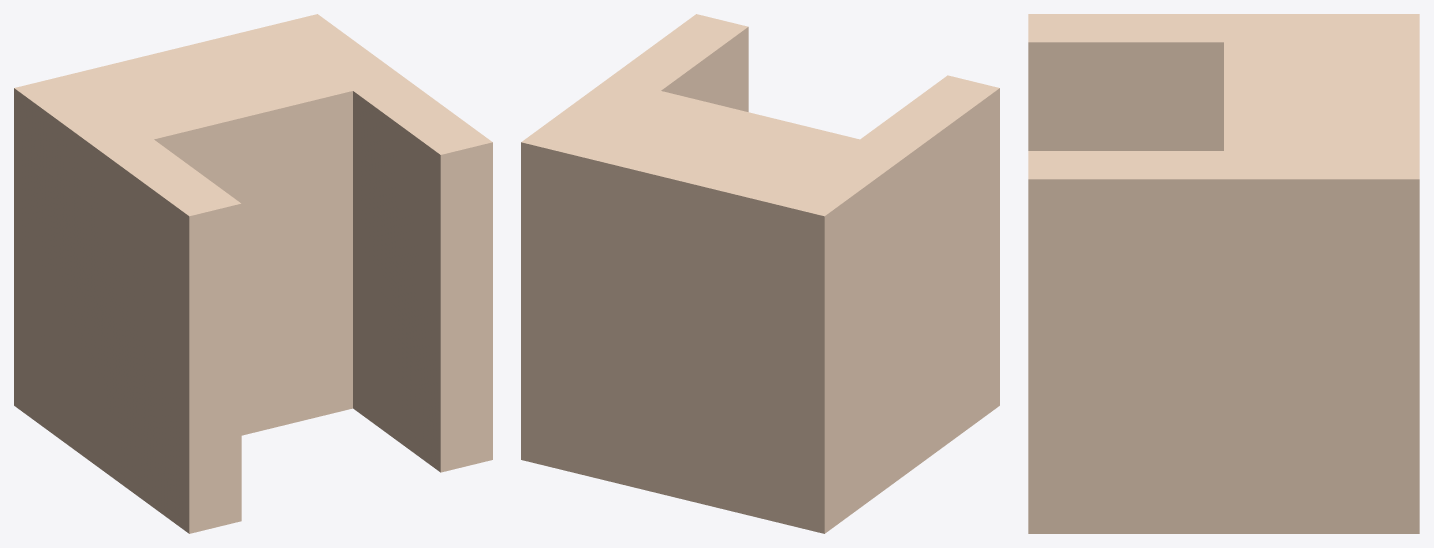
Rendered from Abstract_Castle_Block_1_Unit_Beige_Doorway_Bottom_01.fbx.
3 renders of one model, left to right at view 1: azimuth 30°, elevation 25°; view 2: azimuth 150°, elevation 25°; view 3: azimuth 270°, elevation 25°, orthographic. The views are drawn at different scales.
Parts seen in each view (by area): view 1: Abstract_Castle_Block_1_Unit_Beige_Doorway_Bottom_01; view 2: Abstract_Castle_Block_1_Unit_Beige_Doorway_Bottom_01; view 3: Abstract_Castle_Block_1_Unit_Beige_Doorway_Bottom_01.
Part boxes in pixels (x1=…): Abstract_Castle_Block_1_Unit_Beige_Doorway_Bottom_01: x1=14, y1=14, x2=492, y2=533; Abstract_Castle_Block_1_Unit_Beige_Doorway_Bottom_01: x1=521, y1=14, x2=999, y2=533; Abstract_Castle_Block_1_Unit_Beige_Doorway_Bottom_01: x1=1028, y1=14, x2=1419, y2=533.
Size of the model in its own units: 98.43 by 98.43 by 98.43.
